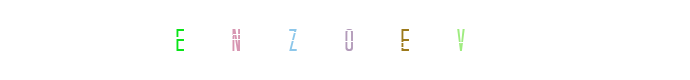E: (139, 0, 219, 80), (330, 0, 410, 80)
N: (252, 0, 332, 80)
O: (305, 0, 385, 80)
V: (364, 0, 444, 80)
Z: (267, 0, 347, 80)
